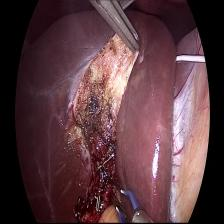Bipolar: (108, 178, 141, 224)
Grasper: (86, 0, 143, 56)
